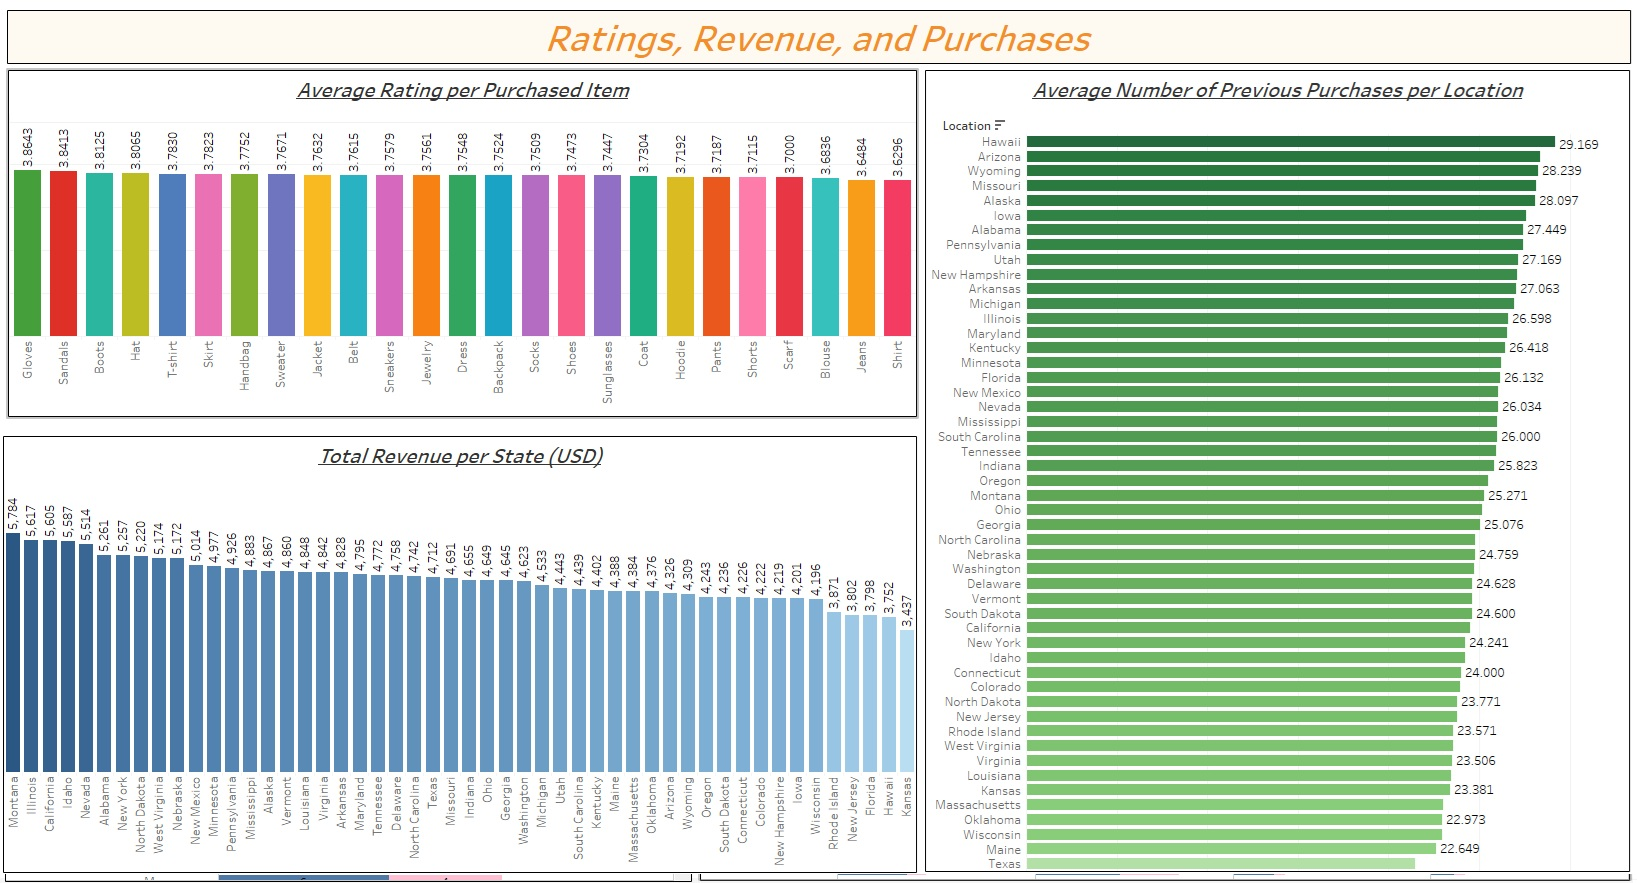

The page's visual inventory and layout, read from the dashboard file:
{"tool":"tableau","page":{"name":"Dashboard 4","canvas":[1654,890],"ordinal":3},"visuals":[{"type":"text","box":[13,21,1624,54]},{"type":"worksheet","title":"Avg Rating per Purchased Item","mark":"Automatic","rows":["Review_Rating"],"cols":["Item_Purchased"],"box":[14,81,909,347]},{"type":"worksheet","title":"Average Number of Previous Purchases per Location","mark":"Bar","rows":["Location"],"cols":["Previous_Purchases"],"box":[931,81,705,802]},{"type":"worksheet","title":"Total Revenue per State","mark":"Automatic","rows":["Purchase_Amount_USD"],"cols":["Location"],"box":[9,447,914,437]}]}

Visuals, with their boxes in screenshot pixels (x1, y1, x2, y2), scaled from the page's 1654x890 canvas onto the 1637x883 screenshot:
text: BBox(13, 21, 1620, 74)
"Avg Rating per Purchased Item" worksheet: BBox(14, 80, 914, 425)
"Average Number of Previous Purchases per Location" worksheet (Bar marks): BBox(921, 80, 1619, 876)
"Total Revenue per State" worksheet: BBox(9, 443, 914, 877)
